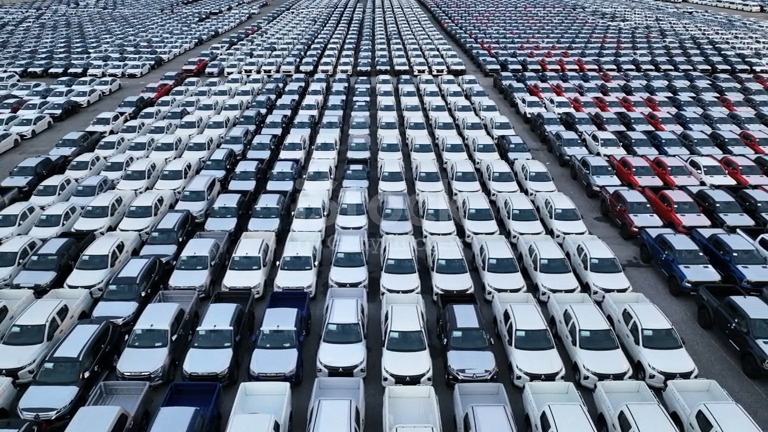car: (0, 128, 48, 156), (19, 113, 59, 138), (51, 99, 86, 121), (19, 113, 54, 131), (82, 89, 110, 107), (103, 78, 128, 96), (138, 60, 160, 76)
pickup: (0, 281, 105, 375), (11, 326, 111, 418), (106, 286, 197, 381), (604, 292, 695, 386), (546, 293, 628, 387), (179, 290, 252, 382), (696, 284, 767, 378), (491, 293, 561, 381), (642, 228, 726, 296), (92, 253, 166, 328), (11, 233, 94, 296), (246, 302, 311, 382), (440, 299, 496, 384), (379, 297, 437, 379), (691, 228, 767, 290), (674, 378, 767, 428), (317, 289, 369, 376), (63, 230, 139, 287), (566, 234, 632, 295), (520, 235, 581, 300), (605, 385, 686, 432), (530, 382, 605, 432), (171, 233, 229, 296), (474, 236, 530, 300), (322, 228, 373, 297), (223, 231, 274, 297), (426, 233, 476, 300), (604, 190, 669, 240), (0, 227, 53, 288), (243, 379, 304, 431), (641, 188, 711, 233), (173, 379, 234, 430), (693, 187, 760, 230), (0, 198, 55, 249), (274, 234, 319, 296), (398, 378, 448, 432), (466, 388, 527, 432), (118, 183, 176, 227), (168, 188, 220, 237), (199, 187, 247, 239), (74, 192, 133, 234), (383, 236, 424, 296), (320, 381, 368, 432), (27, 172, 87, 212), (503, 192, 550, 241), (464, 192, 507, 240), (583, 155, 635, 194), (263, 191, 307, 235), (622, 156, 678, 189), (486, 155, 528, 197), (117, 158, 165, 194), (162, 157, 208, 194), (694, 157, 745, 186), (187, 157, 228, 193), (335, 190, 367, 236), (65, 151, 114, 181), (428, 191, 463, 233), (527, 162, 565, 200), (555, 126, 597, 160), (696, 404, 746, 431), (664, 157, 712, 185), (303, 158, 335, 197), (387, 187, 417, 228), (459, 161, 492, 198), (555, 111, 590, 142), (419, 159, 451, 192), (267, 160, 300, 192), (625, 129, 668, 153), (228, 160, 261, 191), (656, 129, 700, 152), (420, 160, 451, 191), (692, 130, 731, 153), (313, 128, 339, 162), (379, 160, 409, 189), (344, 160, 370, 193), (524, 94, 553, 119), (587, 113, 622, 132), (627, 113, 660, 130), (423, 169, 449, 189), (0, 153, 13, 170)
